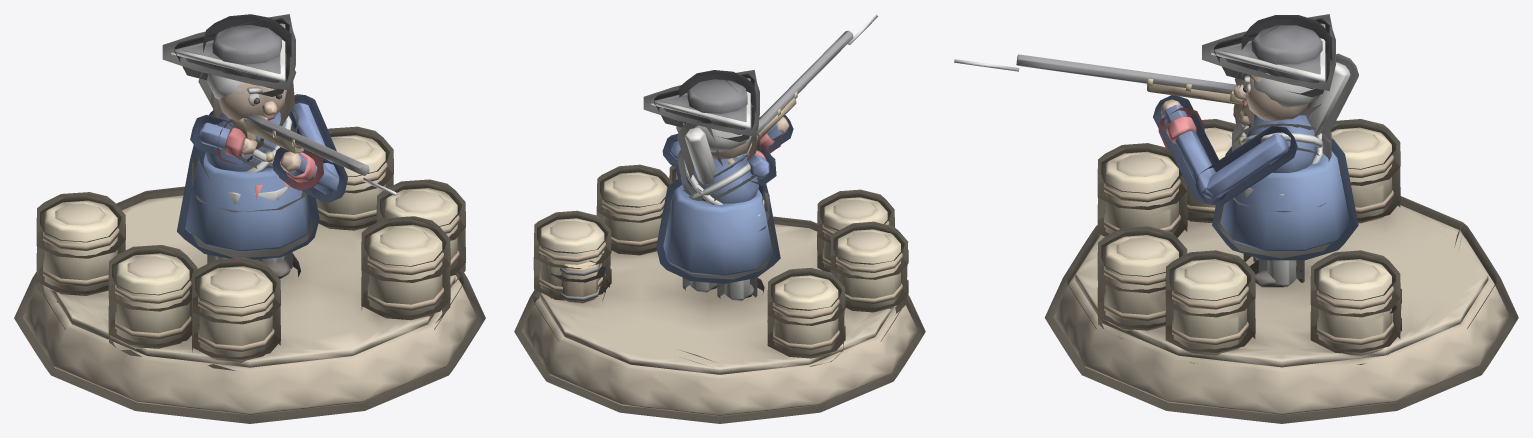
Rendered from musketeer.glb.
3 renders of one model, left to right at view 1: azimuth 30°, elevation 25°; view 2: azimuth 150°, elevation 25°; view 3: azimuth 270°, elevation 25°, orthographic. The views are drawn at different scales.
Visible parts, largest first — view 1: M_Musketeer, M_Musketeer_Outline, M_Body.017, M_Body.017_Outline, M_Arm, M_Arm_Outline, M_Musket; view 2: M_Musketeer, M_Body.017, M_Musketeer_Outline, M_Body.017_Outline, M_Musket, M_Arm, M_Arm_Outline; view 3: M_Musketeer, M_Body.017, M_Musketeer_Outline, M_Body.017_Outline, M_Arm, M_Musket, M_Arm_Outline.
Boxes of the visible parts, box(x1,y1,x2,y2) form: M_Musketeer: box(22, 135, 477, 415); M_Musketeer_Outline: box(14, 126, 485, 423); M_Body.017: box(171, 23, 311, 278); M_Body.017_Outline: box(162, 14, 319, 276); M_Arm: box(198, 102, 339, 194); M_Arm_Outline: box(190, 94, 347, 202); M_Musket: box(220, 111, 397, 195); M_Musketeer: box(522, 172, 917, 416); M_Body.017: box(651, 78, 773, 300); M_Musketeer_Outline: box(514, 164, 925, 423); M_Body.017_Outline: box(643, 70, 780, 298); M_Musket: box(727, 14, 877, 164); M_Arm: box(670, 117, 789, 178); M_Arm_Outline: box(662, 115, 793, 186); M_Musketeer: box(1053, 127, 1509, 415); M_Body.017: box(1211, 23, 1350, 287); M_Musketeer_Outline: box(1044, 119, 1518, 423); M_Body.017_Outline: box(1202, 14, 1358, 282); M_Arm: box(1161, 99, 1288, 198); M_Musket: box(954, 54, 1247, 116); M_Arm_Outline: box(1153, 95, 1297, 205).
Size of the model in its own units: 3.26 by 2.27 by 3.88.
